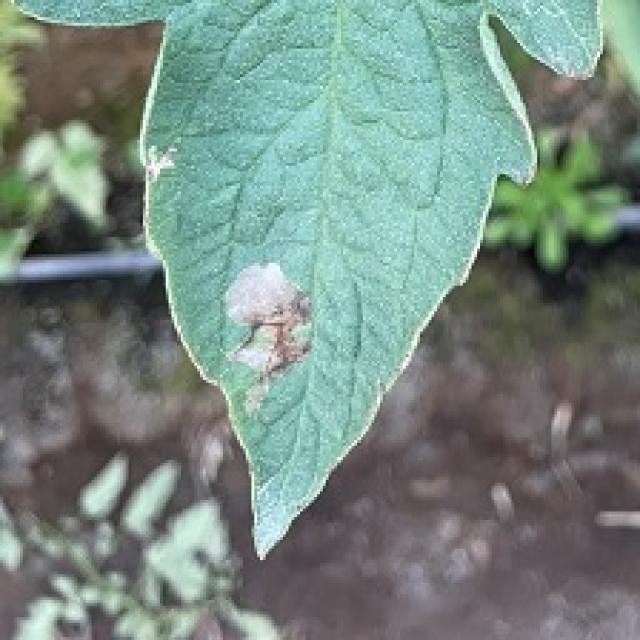Tuta absoluta: (221, 257, 321, 413)
